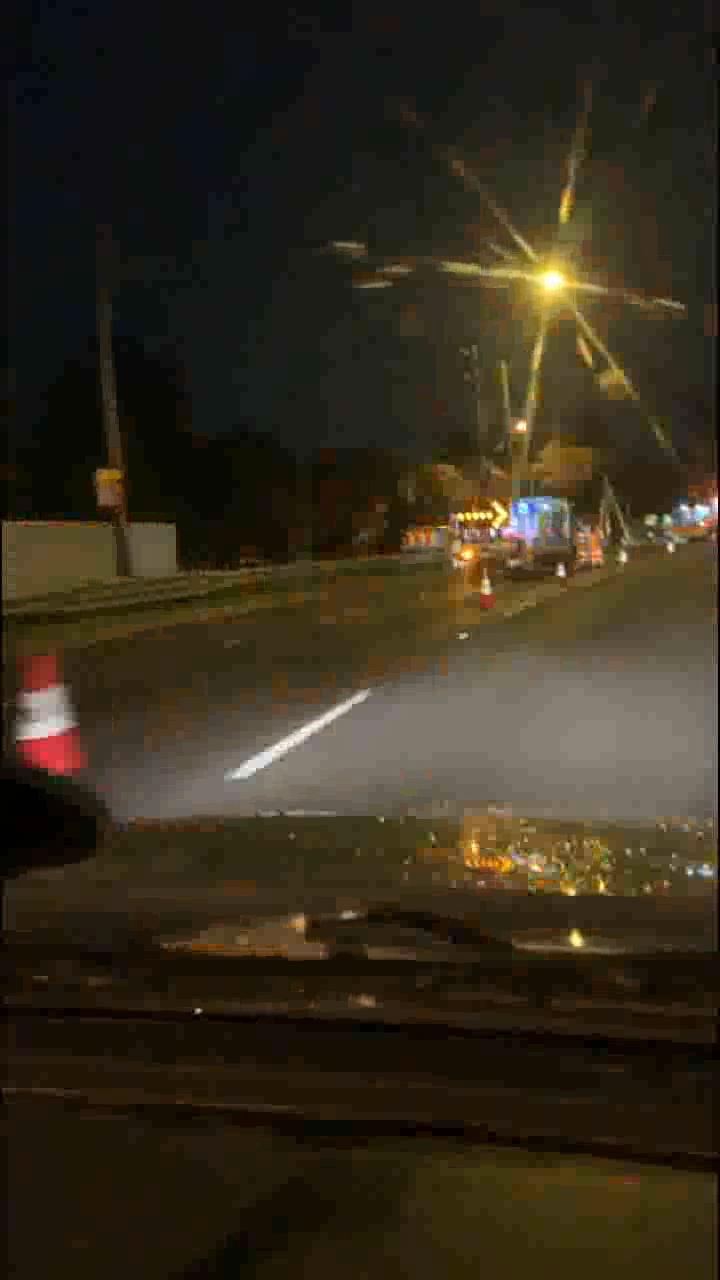person: (581, 521, 608, 565)
truck: (452, 496, 568, 571)
